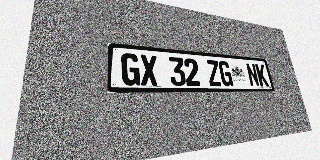2: (183, 58, 200, 86)
3: (169, 57, 186, 86)
G: (121, 53, 140, 86), (218, 61, 234, 86)
K: (255, 64, 269, 87)
N: (245, 63, 260, 86)
X: (140, 54, 158, 86)
Z: (206, 60, 222, 86)
